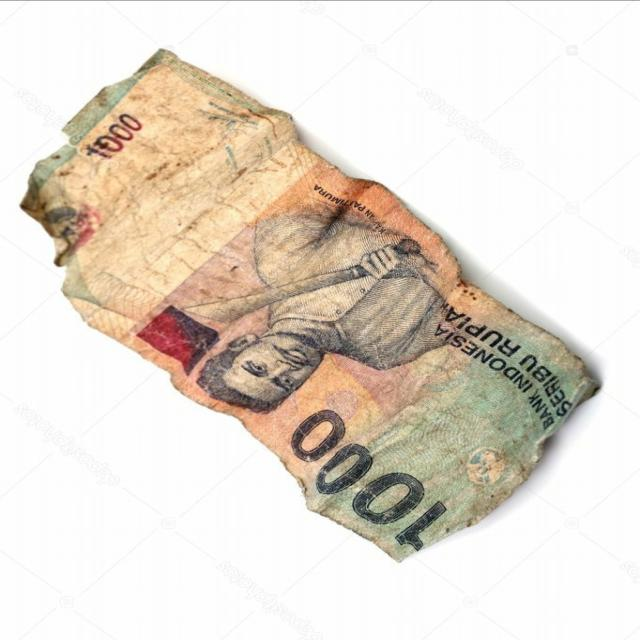1000IndonesianRupiah: (15, 54, 602, 545)
